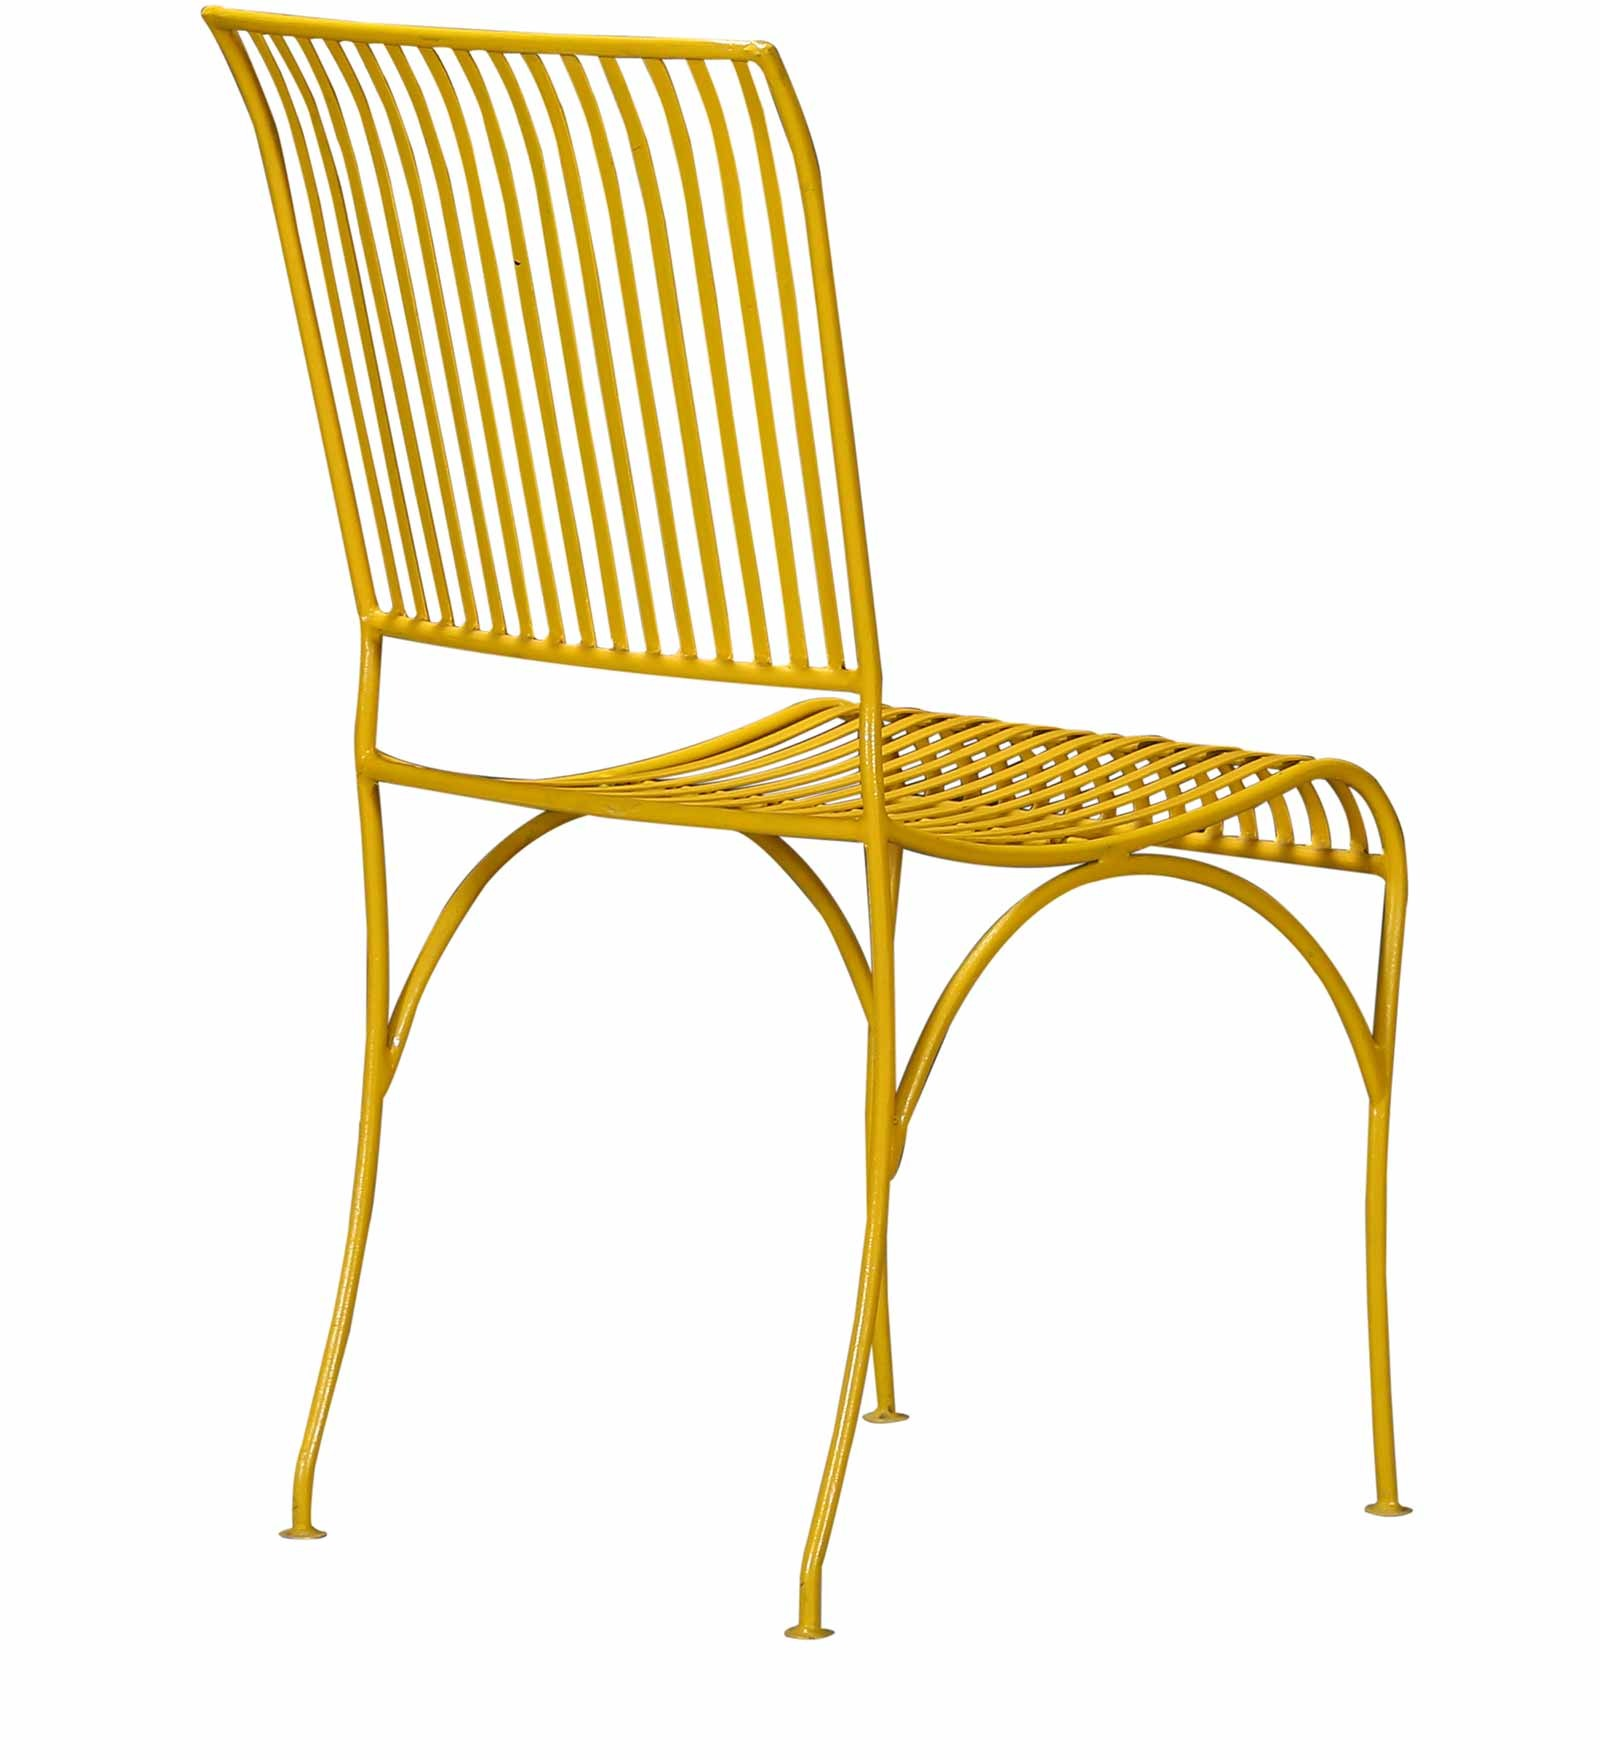Lisheen Outdoor Iron Chair in Yellow Color by Bohemiana: (158, 2, 1533, 1680)
